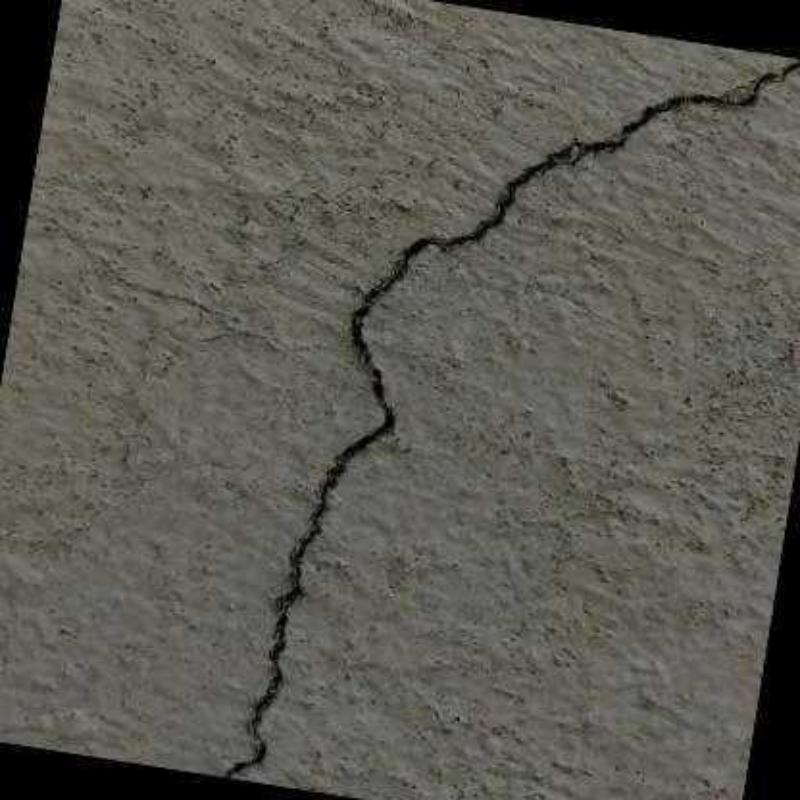crack: (222, 58, 800, 779)
